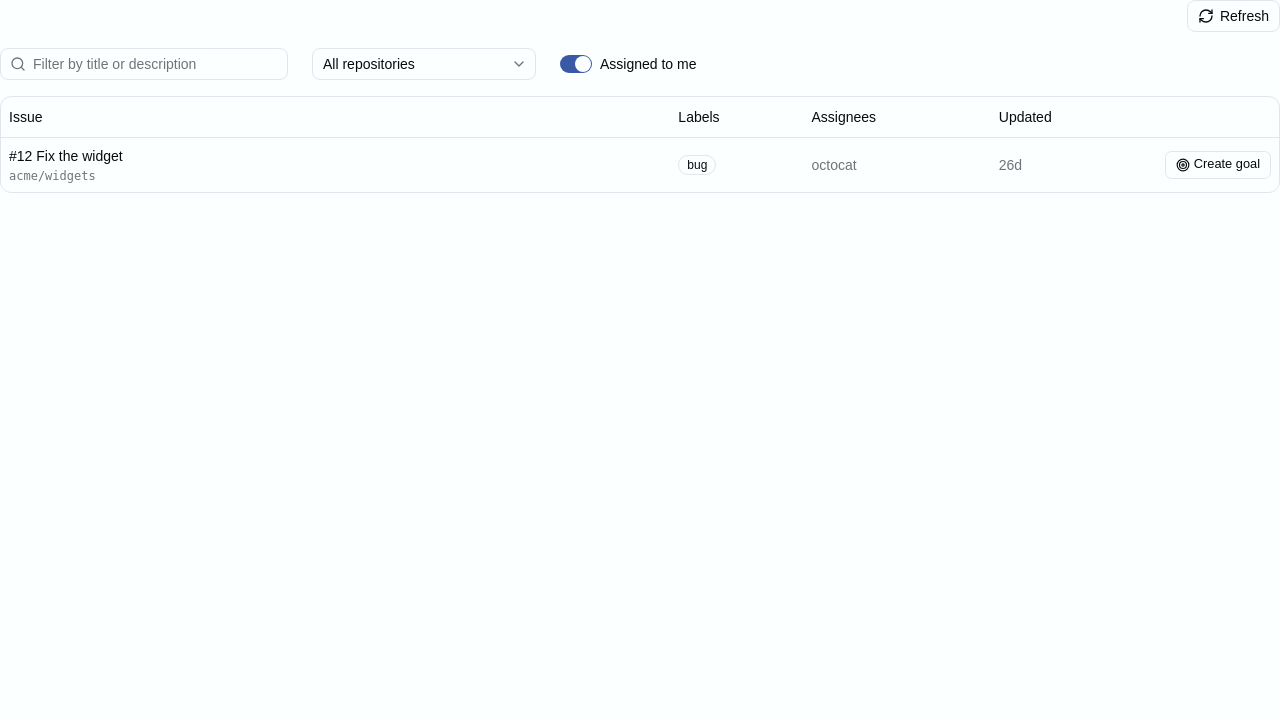
lists forge issues and fills the goal dialog from a chosen issue
The width and height of the screenshot is (1280, 720).
Expected: the icon "bug" is shown, x1=678 y1=154 x2=716 y2=174
Expected: the text "octocat" is shown, x1=804 y1=137 x2=991 y2=192
Click the button "Create goal" at (1218, 164), box x1=1165 y1=150 x2=1271 y2=178
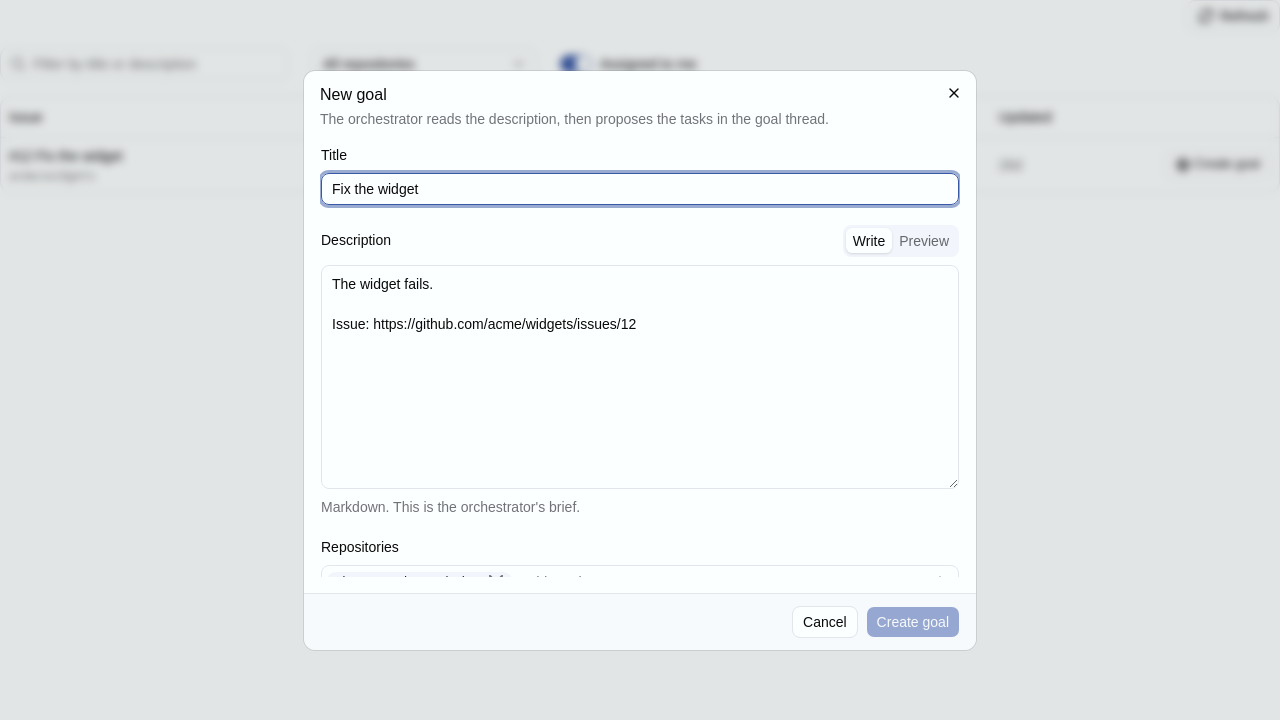
Result: the field labelled "Title" holds "Fix the widget" at x1=321 y1=173 x2=959 y2=205
Result: the text box "Issue: https://github.com/acme/widgets/issues/12" is shown at x1=321 y1=265 x2=959 y2=489
